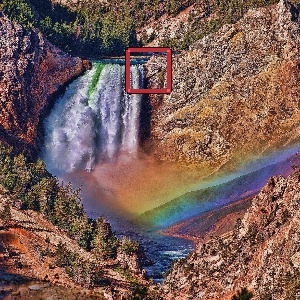square: (125, 47, 173, 94)
